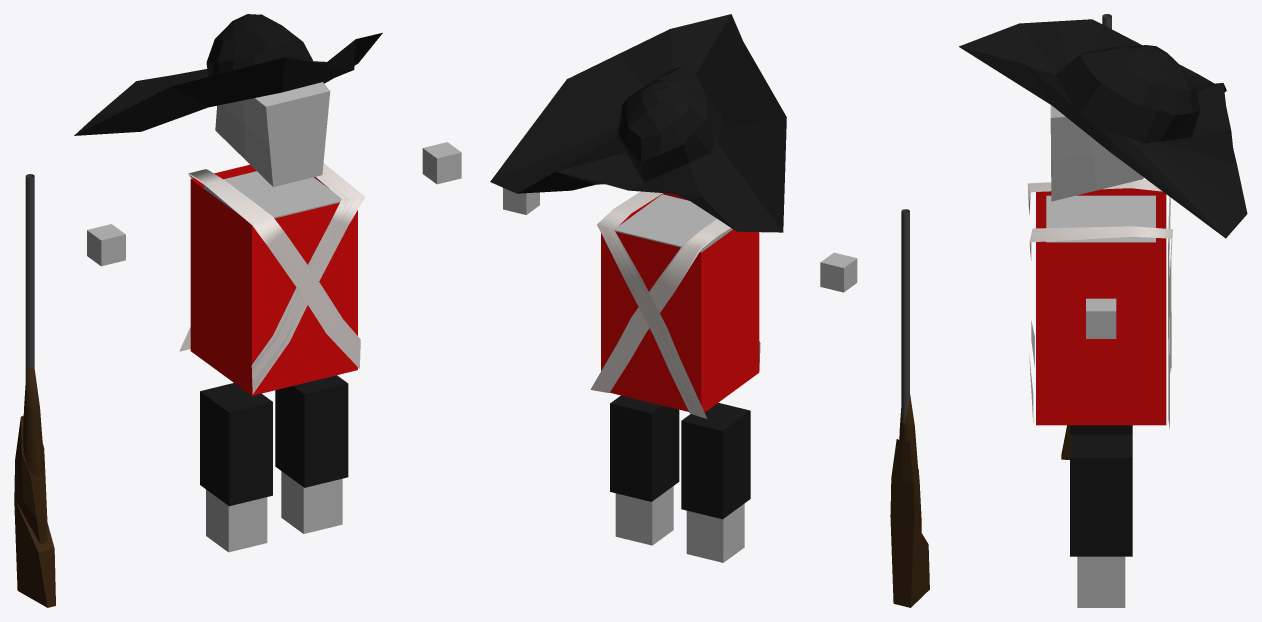
Rendered from enemy_three.fbx.
The picture shows the model from 3 angles, left to right: view 1: azimuth 30°, elevation 25°; view 2: azimuth 150°, elevation 25°; view 3: azimuth 270°, elevation 25°; orthographic projection. The views are drawn at different scales.
Visible parts, largest first — view 1: pCube9, pCube8, pCube10, pCube13, pCube14, pCube15, polySurface2, pPlane1, polySurface1; view 2: pCube10, pCube9, pCube8, pCube13, pCube14, pCube15, polySurface2, pPlane1, polySurface1; view 3: pCube10, pCube9, pCube8, pCube15, pPlane1, polySurface2, pCube14.
Boxes of the visible parts, x1,y1,x2,y2 form: pCube9: [190, 164, 357, 395]; pCube8: [87, 82, 461, 552]; pCube10: [74, 14, 382, 135]; pCube13: [14, 174, 55, 607]; pCube14: [200, 383, 272, 506]; pCube15: [275, 375, 348, 487]; polySurface2: [188, 169, 360, 368]; pPlane1: [179, 163, 365, 394]; polySurface1: [182, 181, 362, 391]; pCube10: [490, 14, 786, 232]; pCube9: [601, 193, 759, 412]; pCube8: [503, 188, 857, 562]; pCube13: [890, 209, 929, 607]; pCube14: [681, 402, 750, 519]; pCube15: [610, 395, 679, 501]; polySurface2: [590, 219, 730, 392]; pPlane1: [597, 191, 760, 417]; polySurface1: [597, 192, 760, 418]; pCube10: [959, 19, 1247, 238]; pCube9: [1036, 188, 1166, 425]; pCube8: [1046, 105, 1155, 607]; pCube15: [1070, 434, 1132, 556]; pPlane1: [1029, 226, 1172, 373]; polySurface2: [1027, 179, 1170, 429]; pCube14: [1070, 425, 1132, 434].
Bounding box in the file's own units: 4.85 × 5.47 × 2.63.
